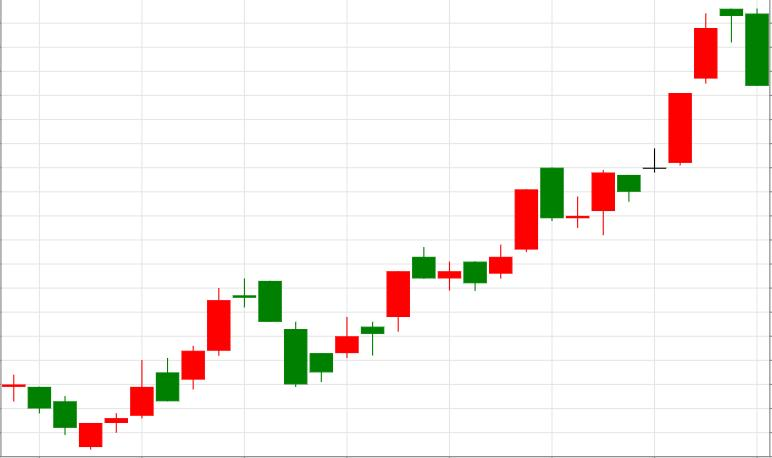evening_star_fall: (618, 8, 769, 202)
